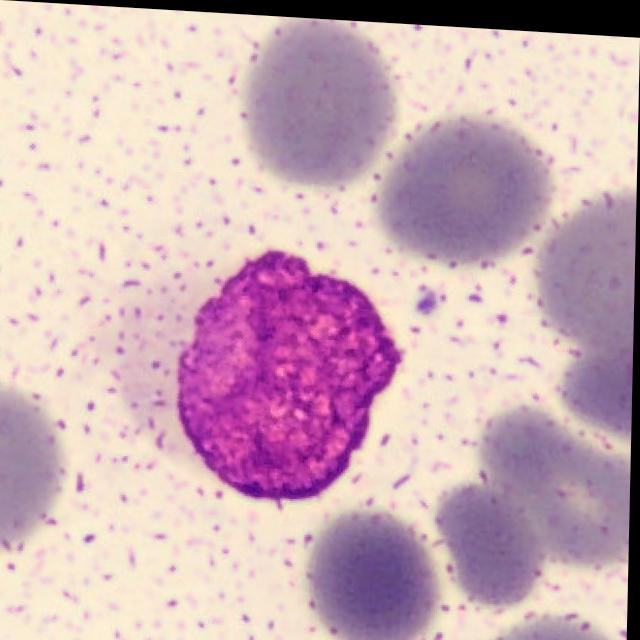Restos celulares: (177, 247, 405, 501)
